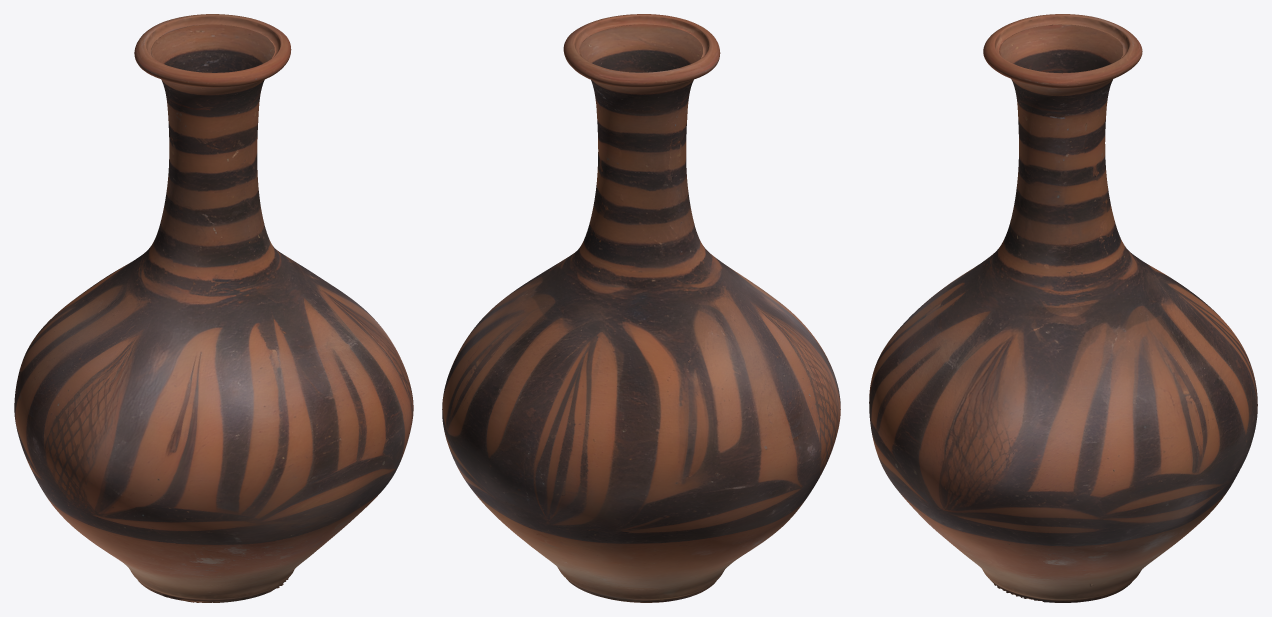
The model's file is taopingB.glb.
3 views of the same model, side by side, from view 1: azimuth 30°, elevation 25°; view 2: azimuth 150°, elevation 25°; view 3: azimuth 270°, elevation 25° (orthographic).
Visible parts, largest first — view 1: node_0; view 2: node_0; view 3: node_0.
Part boxes in pixels (bbox=[...]): node_0: bbox=[14, 14, 413, 602]; node_0: bbox=[442, 14, 840, 602]; node_0: bbox=[869, 14, 1257, 602].
Bounding box in the file's own units: 0.7975 × 1.16 × 0.7764.
Materials: 1 (1 with a texture image).
